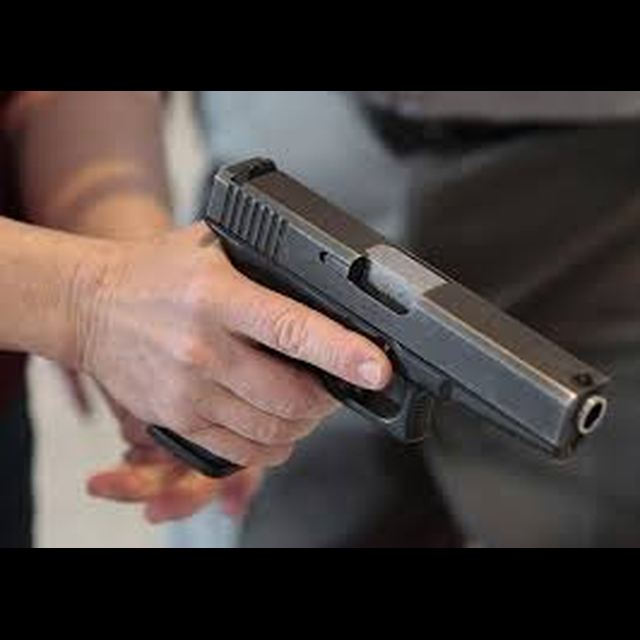SILAH: (130, 132, 616, 510)
